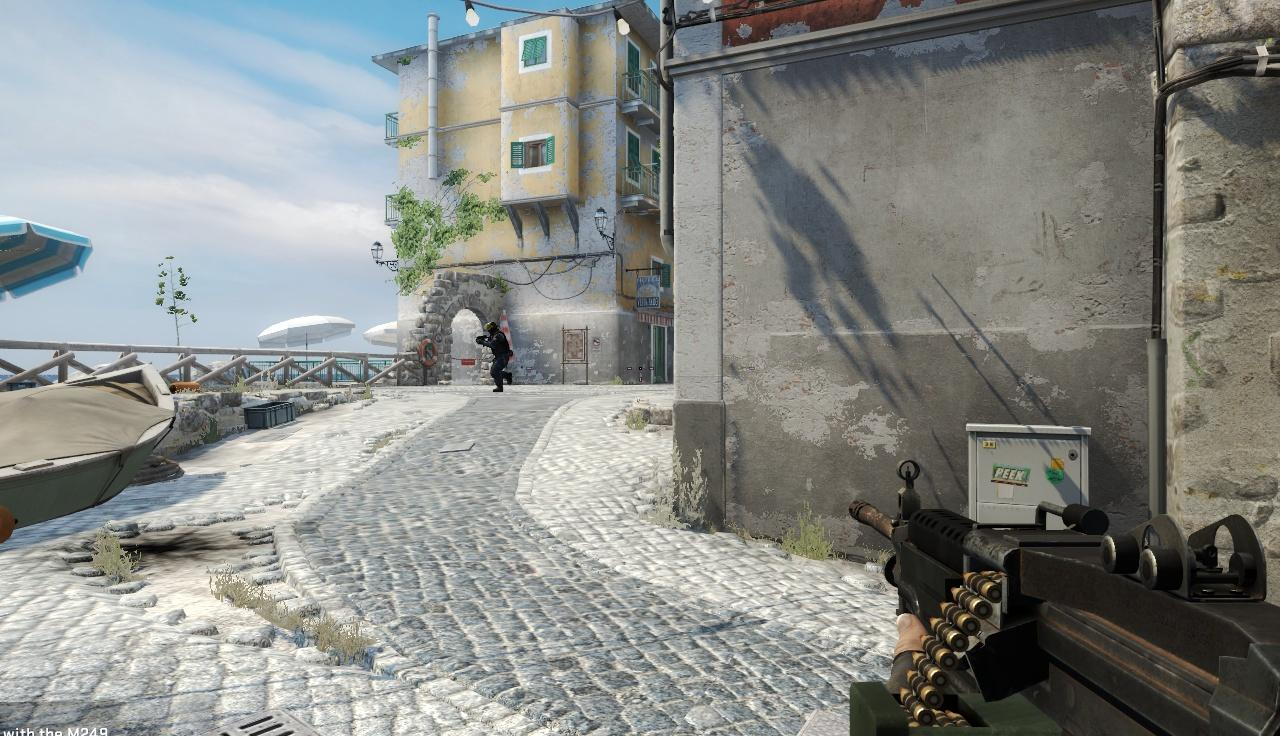ct: (486, 322, 514, 393)
cthead: (484, 322, 498, 333)
rifle: (857, 455, 1280, 731)
